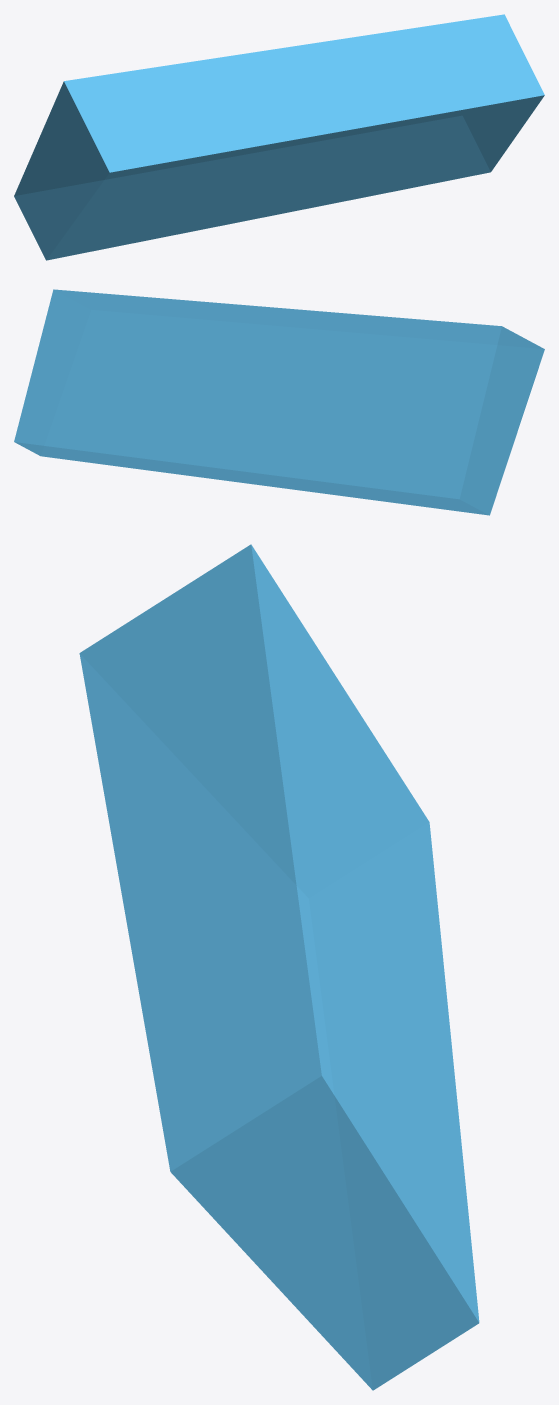
File: Event_421364160_HErechit_58.fbx
3 views of the same model, one above another, from view 1: azimuth 30°, elevation 25°; view 2: azimuth 150°, elevation 25°; view 3: azimuth 270°, elevation 25° (orthographic). The views are drawn at different scales.
Visible parts, largest first — view 1: Model; view 2: Model; view 3: Model.
Boxes of the visible parts, box(x1,y1,x2,y2) form: Model: box(14, 14, 544, 260); Model: box(14, 289, 544, 515); Model: box(79, 544, 479, 1390).
Size of the model in its own units: 1.48 by 0.6968 by 0.5931.
